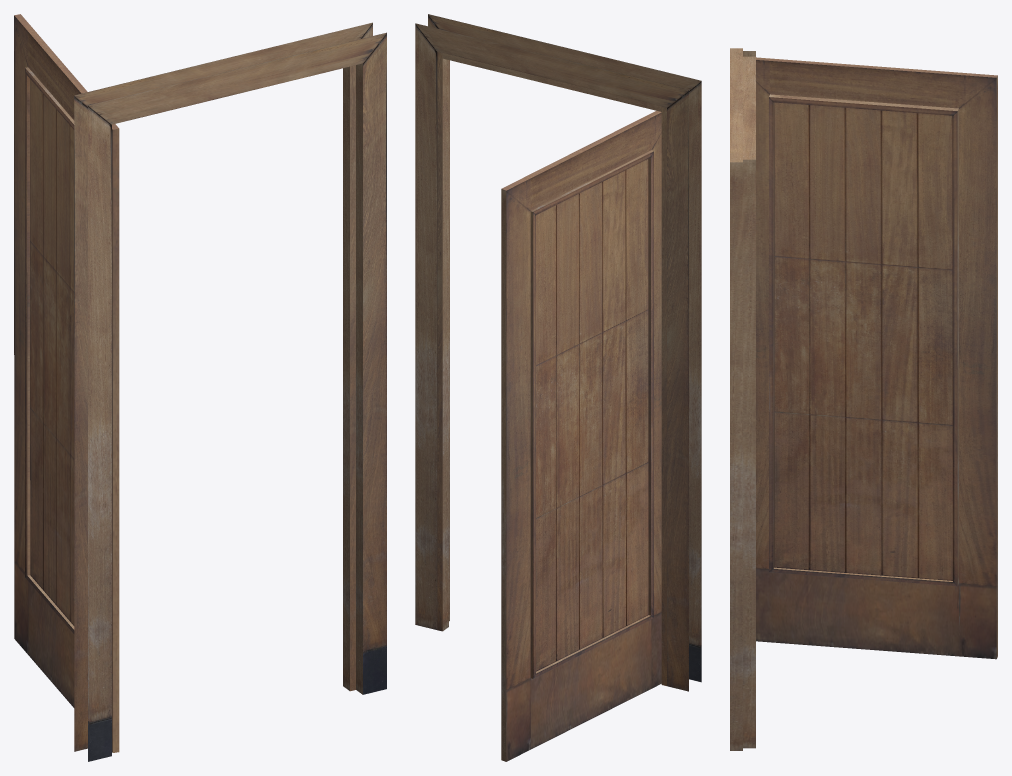
Rendered from woodenDoor_01_v1_ANIM.fbx.
3 renders of one model, left to right at view 1: azimuth 30°, elevation 25°; view 2: azimuth 150°, elevation 25°; view 3: azimuth 270°, elevation 25°, orthographic. The views are drawn at different scales.
Visible parts, largest first — view 1: DoorFrame, Door; view 2: Door, DoorFrame; view 3: Door, DoorFrame.
Boxes of the visible parts, left/top/right/bottom form: DoorFrame: left=74, top=22, right=386, bottom=761; Door: left=14, top=14, right=119, bottom=752; Door: left=501, top=111, right=661, bottom=761; DoorFrame: left=415, top=14, right=701, bottom=691; Door: left=756, top=57, right=997, bottom=659; DoorFrame: left=730, top=48, right=755, bottom=750.
Bounding box in the file's own units: 100 × 210 × 83.26.
Materials: 1 (1 with a texture image).
